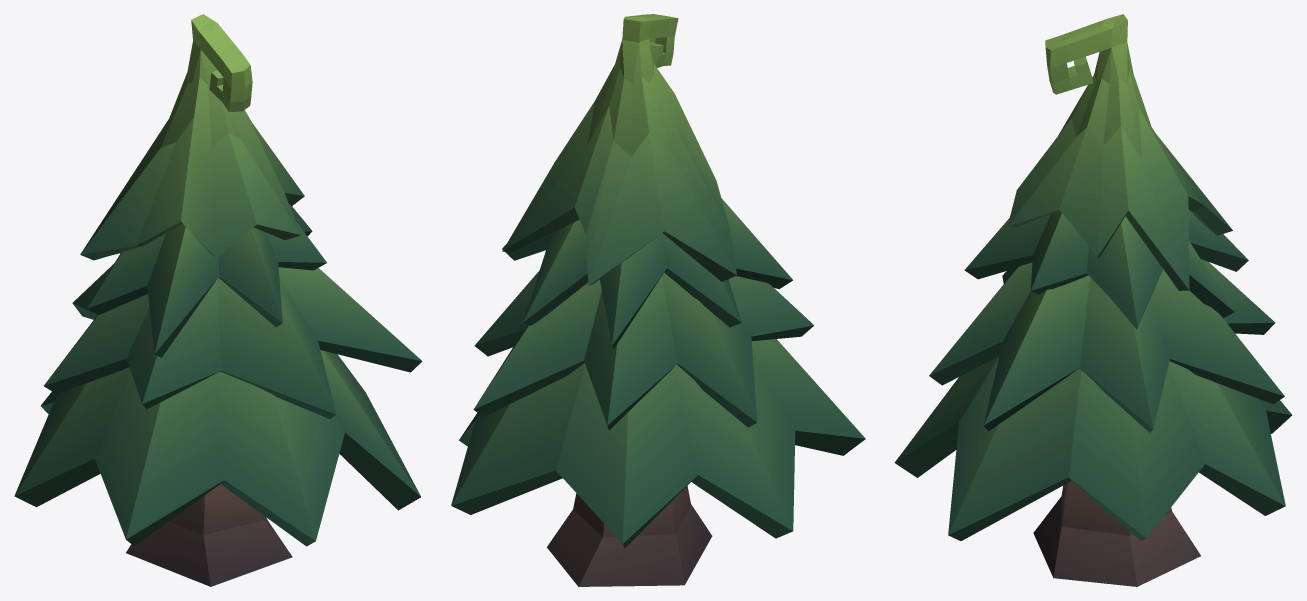
The model's file is firtree.obj.
The picture shows the model from 3 angles, left to right: view 1: azimuth 30°, elevation 25°; view 2: azimuth 150°, elevation 25°; view 3: azimuth 270°, elevation 25°; orthographic projection. The views are drawn at different scales.
Visible parts, largest first — view 1: treetop.001, treetop.002, treetop.004, treetop.003, treetrunk; view 2: treetop.001, treetop.004, treetop.002, treetop.003, treetrunk; view 3: treetop.001, treetop.002, treetop.004, treetop.003, treetrunk.
Part boxes in pixels (bbox=[...]): treetop.001: bbox=[14, 350, 420, 546]; treetop.002: bbox=[44, 263, 422, 418]; treetop.004: bbox=[80, 14, 304, 260]; treetop.003: bbox=[87, 204, 326, 357]; treetrunk: bbox=[126, 484, 292, 586]; treetop.001: bbox=[451, 339, 865, 548]; treetop.004: bbox=[502, 14, 736, 285]; treetop.002: bbox=[473, 270, 813, 430]; treetop.003: bbox=[502, 198, 792, 348]; treetrunk: bbox=[547, 486, 712, 586]; treetop.001: bbox=[894, 356, 1292, 541]; treetop.002: bbox=[929, 259, 1284, 432]; treetop.004: bbox=[1007, 14, 1232, 290]; treetop.003: bbox=[964, 210, 1248, 329]; treetrunk: bbox=[1033, 481, 1200, 586].
Bounding box in the file's own units: 6.74 × 10.36 × 7.02.
